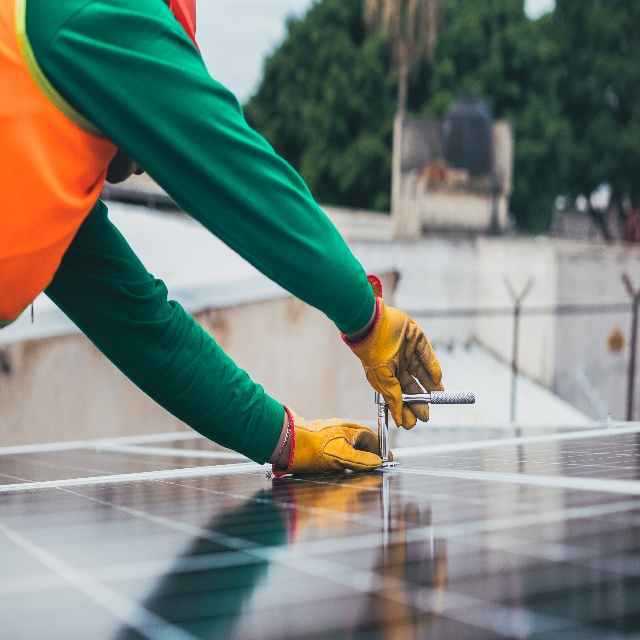Guantes: (341, 293, 442, 431), (272, 394, 397, 477)
